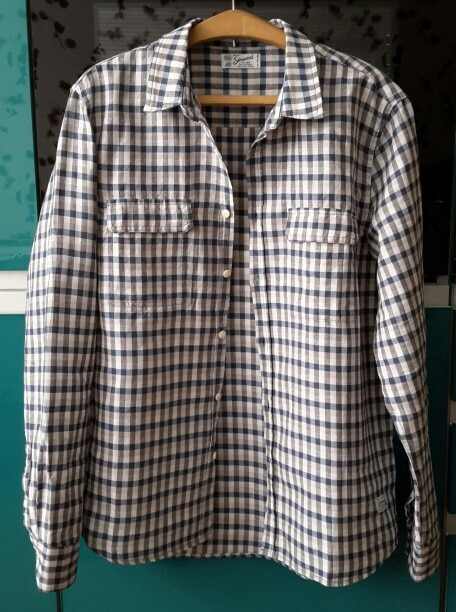shirts: (25, 12, 441, 574)
